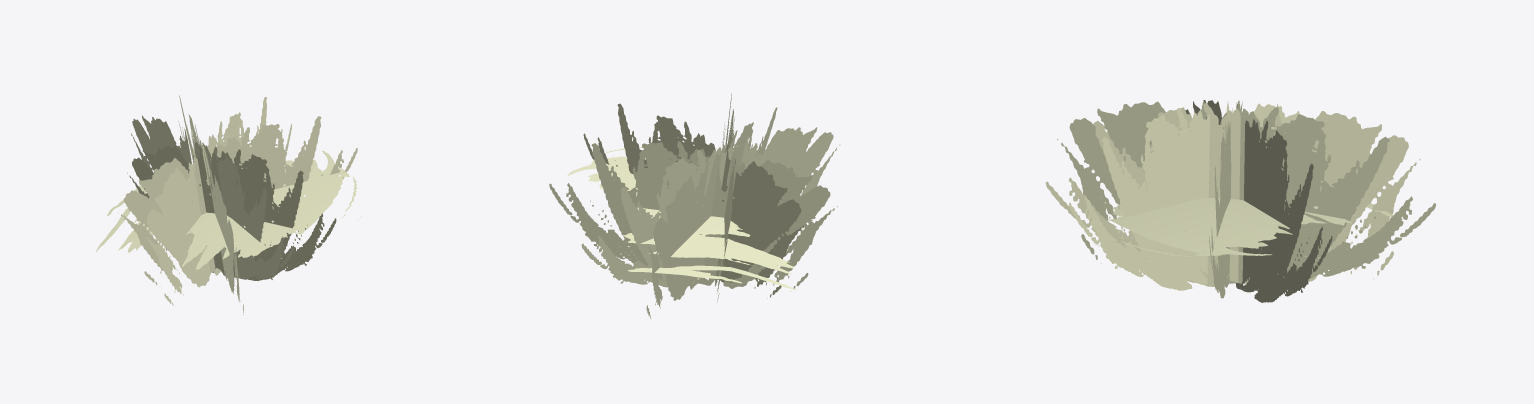
Rendered from Basic_Grass_17_002_textured.glb.
3 renders of one model, left to right at view 1: azimuth 30°, elevation 25°; view 2: azimuth 150°, elevation 25°; view 3: azimuth 270°, elevation 25°, orthographic. The views are drawn at different scales.
Visible parts, largest first — view 1: Basic_Grass_17.002; view 2: Basic_Grass_17.002; view 3: Basic_Grass_17.002.
Boxes of the visible parts, x1=… form: Basic_Grass_17.002: x1=96, y1=95, x2=363, y2=314; Basic_Grass_17.002: x1=549, y1=93, x2=840, y2=319; Basic_Grass_17.002: x1=1045, y1=99, x2=1435, y2=302.
Size of the model in its own units: 17.19 by 9.89 by 17.5.
Materials: 1 (1 with a texture image).
